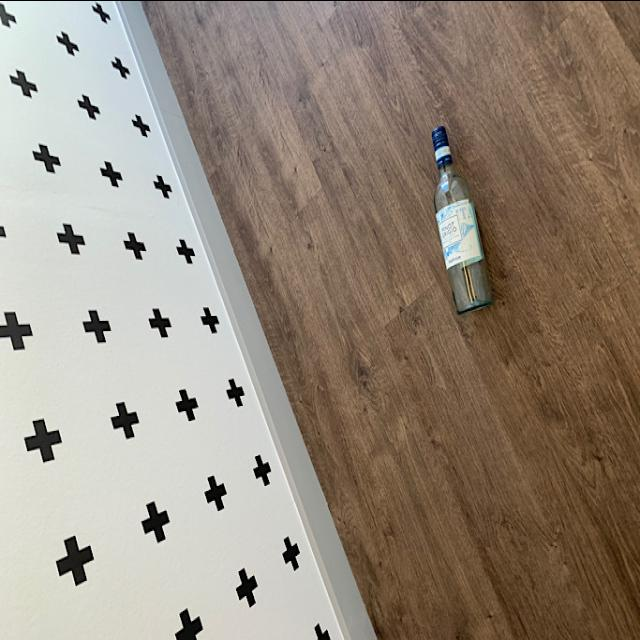litter: (424, 120, 494, 316)
